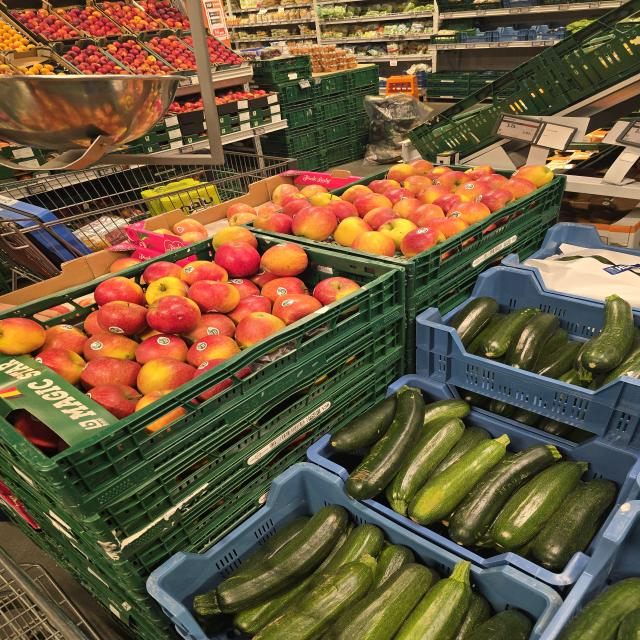Apple: (137, 357, 195, 395), (146, 295, 201, 334), (187, 334, 240, 373), (86, 383, 142, 419), (81, 357, 142, 390), (235, 312, 286, 349), (35, 348, 87, 384), (187, 280, 240, 314), (97, 301, 148, 335), (0, 318, 46, 355), (214, 241, 261, 277), (272, 293, 323, 326), (135, 334, 188, 365), (261, 243, 308, 277), (83, 332, 138, 361), (94, 276, 145, 307), (292, 206, 338, 240), (181, 314, 235, 342), (225, 295, 272, 327), (400, 227, 445, 258), (400, 228, 445, 258), (313, 277, 361, 305), (42, 325, 87, 353), (378, 218, 417, 250), (332, 216, 372, 247), (261, 277, 308, 303), (145, 277, 187, 306), (180, 261, 228, 286), (350, 231, 395, 257), (212, 226, 257, 251), (446, 201, 491, 225), (353, 193, 393, 218), (424, 217, 469, 239), (511, 165, 554, 188), (363, 207, 403, 231), (143, 261, 182, 284), (253, 212, 293, 234), (407, 204, 445, 227), (435, 171, 472, 194), (432, 193, 468, 215), (324, 200, 359, 222), (500, 179, 537, 199), (453, 181, 491, 200), (227, 278, 260, 299), (340, 185, 373, 204), (393, 198, 422, 219), (383, 187, 415, 206), (173, 219, 208, 236), (272, 184, 300, 205), (280, 198, 310, 217), (403, 176, 433, 195), (387, 163, 417, 181), (368, 179, 401, 194), (226, 203, 256, 219), (309, 192, 340, 207), (310, 192, 340, 207), (480, 174, 508, 189), (300, 184, 327, 199), (407, 160, 434, 175), (229, 212, 257, 226), (279, 193, 306, 207), (180, 231, 207, 244), (257, 202, 282, 216)
Courgette: (194, 504, 348, 616), (449, 445, 561, 545), (253, 556, 377, 640), (476, 461, 588, 551), (345, 385, 425, 500), (408, 435, 510, 524), (319, 563, 432, 640), (530, 479, 617, 570), (386, 417, 464, 515), (394, 561, 472, 640), (579, 295, 631, 373), (330, 393, 398, 452), (479, 308, 541, 359), (506, 313, 560, 371), (446, 297, 499, 348)
